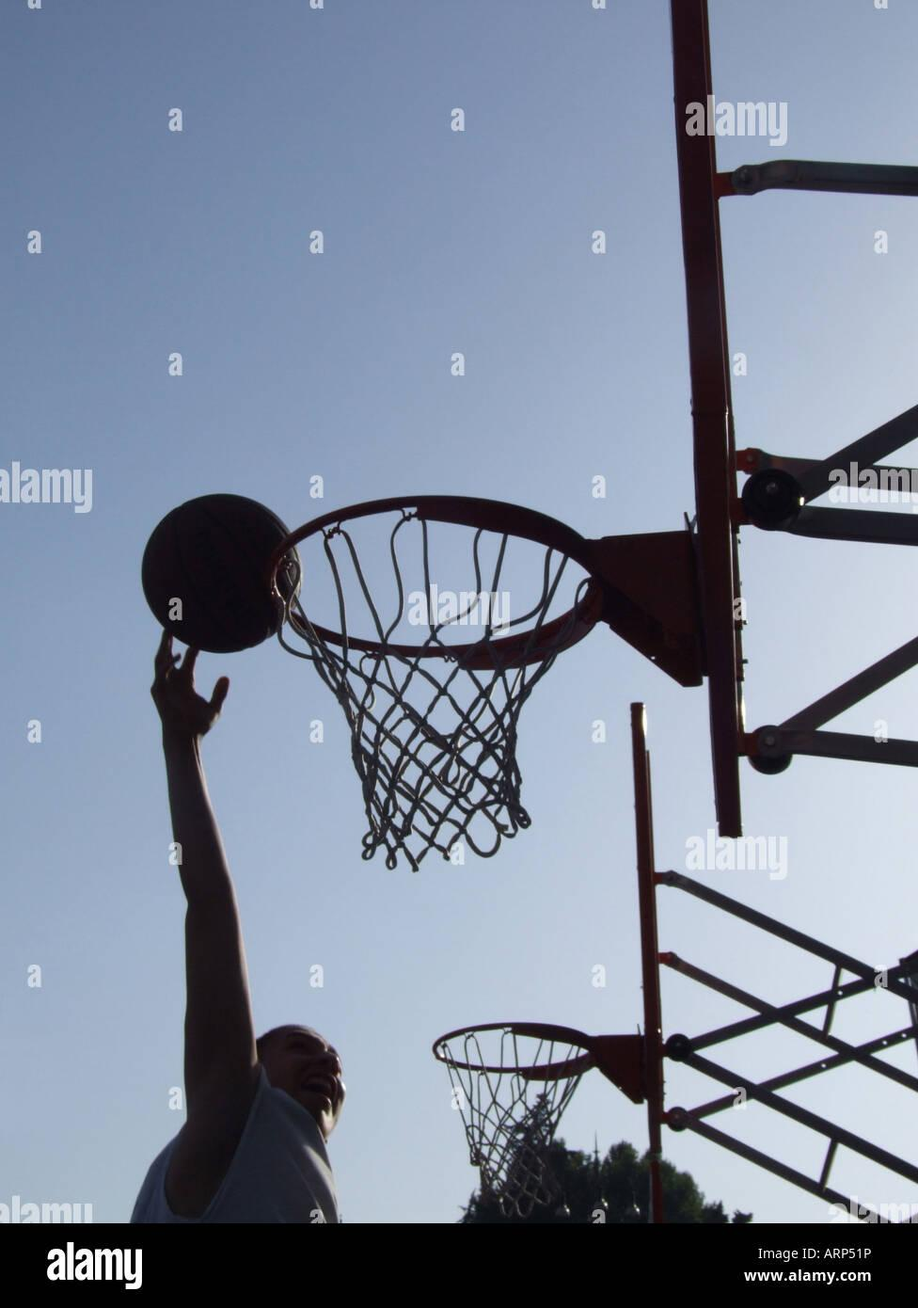basketball: (139, 489, 297, 655)
